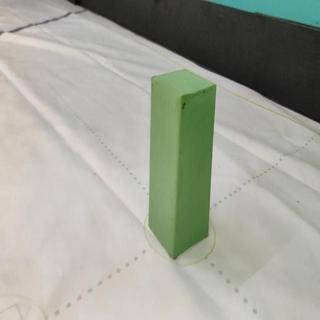greenbox: (149, 69, 216, 262)
